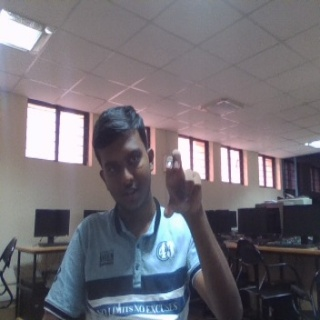No: (160, 146, 208, 220)
